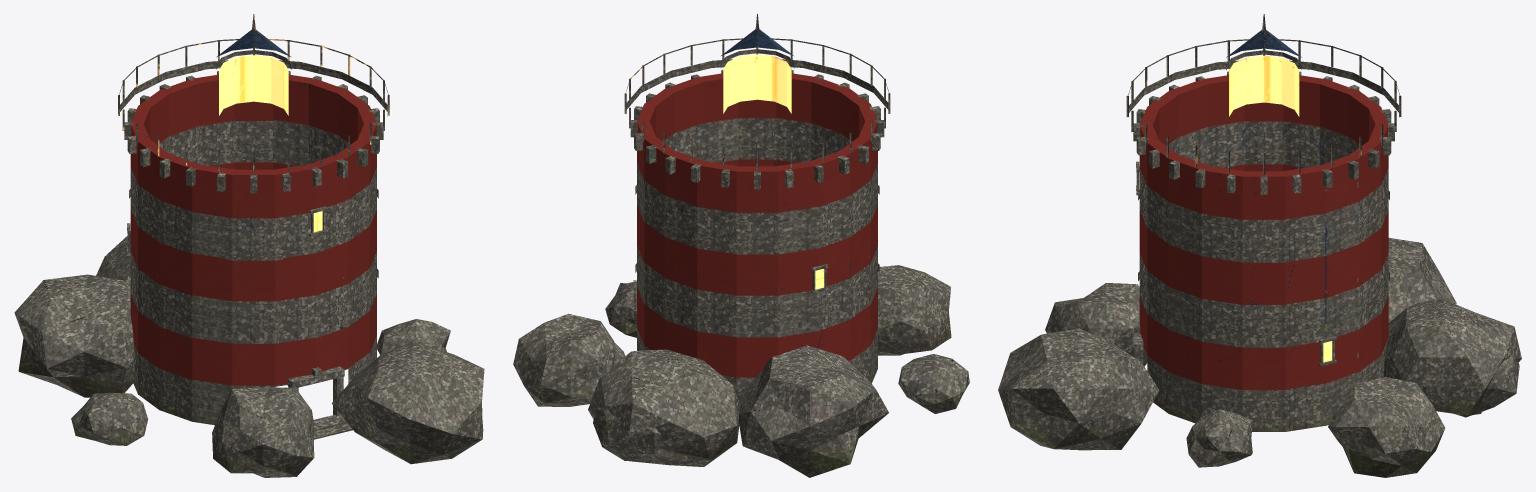
File: bld_lighthouse_card_lod1.glb
The picture shows the model from 3 angles, left to right: view 1: azimuth 30°, elevation 25°; view 2: azimuth 150°, elevation 25°; view 3: azimuth 270°, elevation 25°; orthographic projection. The views are drawn at different scales.
Parts seen in each view (by area): view 1: lighthouse_card; view 2: lighthouse_card; view 3: lighthouse_card.
Boxes of the visible parts, box(x1,y1,x2,y2) form: lighthouse_card: box(14, 14, 484, 477); lighthouse_card: box(513, 14, 969, 477); lighthouse_card: box(998, 14, 1521, 477).
Bounding box in the file's own units: 31.84 × 31.56 × 37.94.
Materials: 1 (1 with a texture image).
